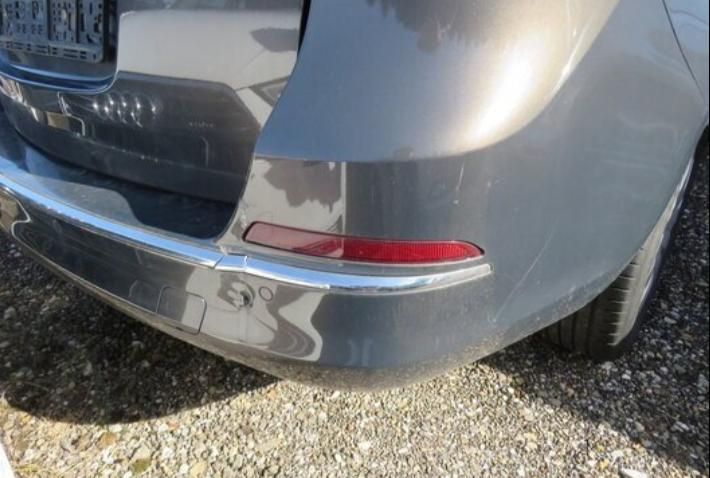Back-bumper: (0, 0, 709, 389)
Back-door: (663, 0, 709, 102)
Back-wheel: (543, 155, 691, 363)
License-plate: (0, 0, 117, 65)
Trunk: (0, 0, 303, 202)
